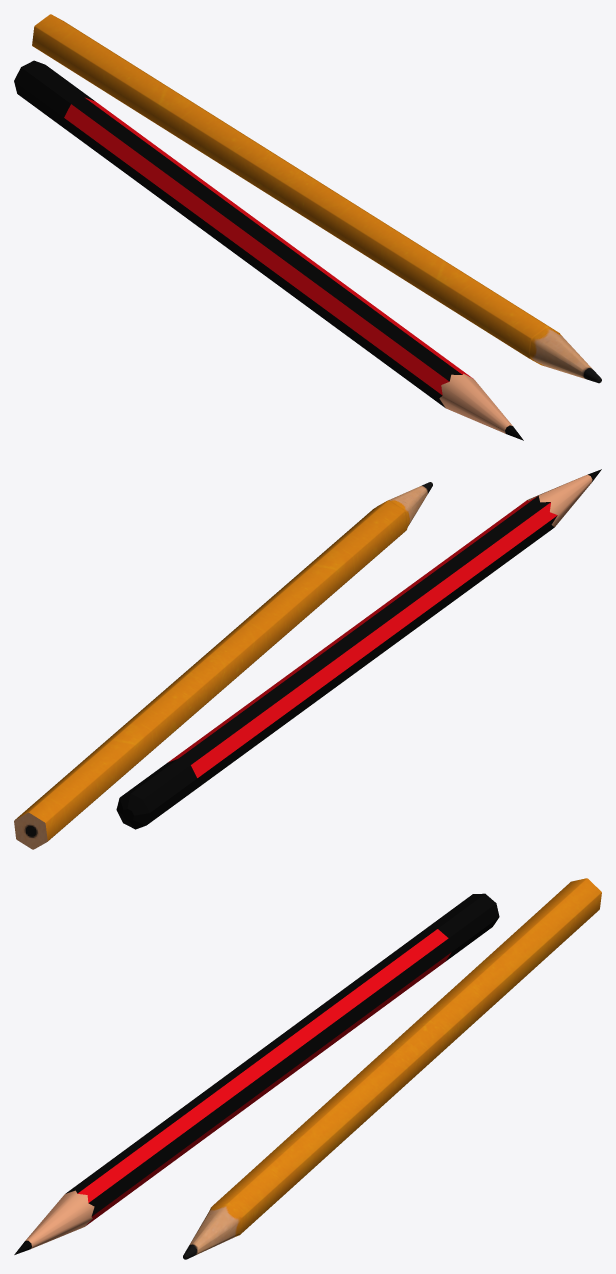
The picture shows the model from 3 angles, top to bottom: view 1: azimuth 30°, elevation 25°; view 2: azimuth 150°, elevation 25°; view 3: azimuth 330°, elevation 25°; orthographic projection. The views are drawn at different scales.
Visible parts, largest first — view 1: Pencil, Cylinder; view 2: Cylinder, Pencil; view 3: Cylinder, Pencil.
Boxes of the visible parts, x1,y1,x2,y2 form: Pencil: [32, 14, 601, 383]; Cylinder: [14, 60, 523, 440]; Cylinder: [116, 469, 601, 829]; Pencil: [14, 482, 432, 849]; Cylinder: [14, 893, 499, 1254]; Pencil: [183, 878, 601, 1259].
Size of the model in its own units: 0.2823 by 0.081 by 1.69.
4 materials, 1 textured.
